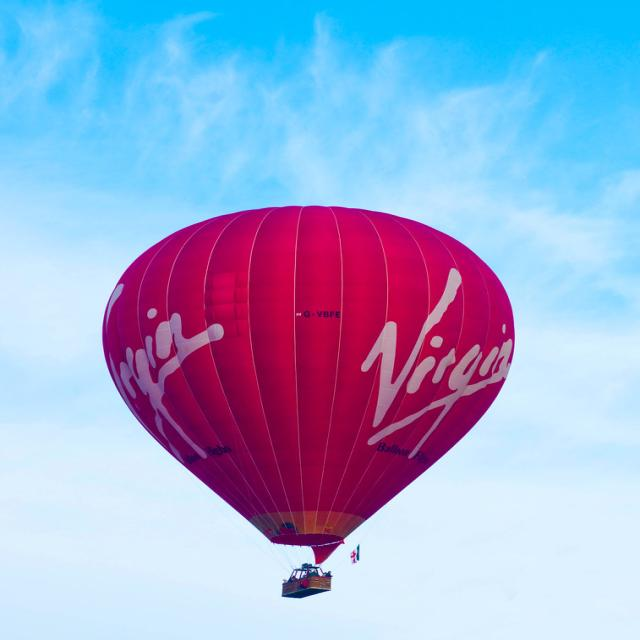balloon: (102, 205, 517, 598)
